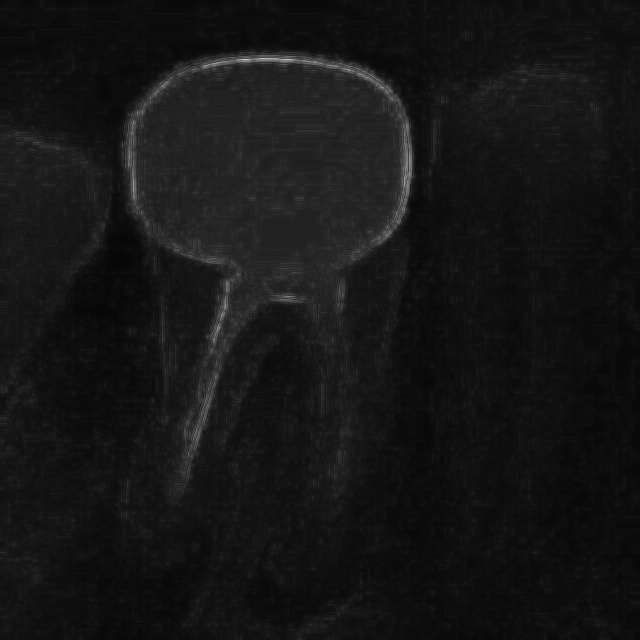Class 1- complete endodontic treatment: (81, 28, 479, 635)
cavity: (400, 51, 624, 624)
